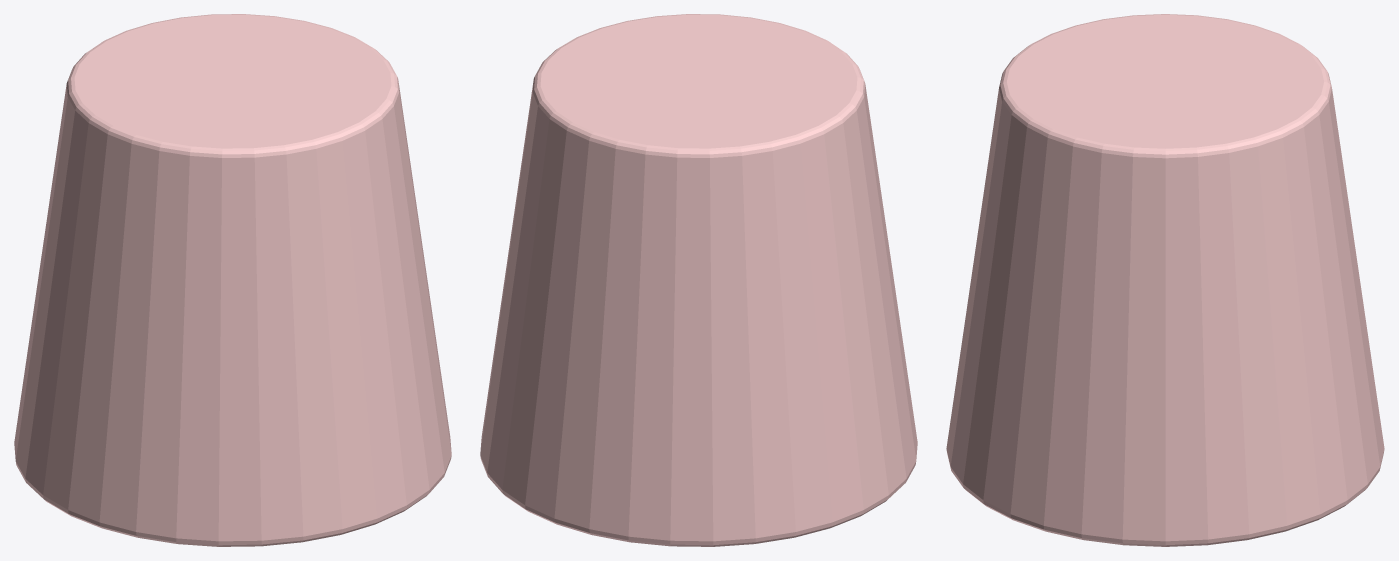
File: pipe.glb
The picture shows the model from 3 angles, left to right: view 1: azimuth 30°, elevation 25°; view 2: azimuth 150°, elevation 25°; view 3: azimuth 270°, elevation 25°; orthographic projection.
Visible parts, largest first — view 1: Cylinder.001; view 2: Cylinder.001; view 3: Cylinder.001.
Boxes of the visible parts, x1,y1,x2,y2 form: Cylinder.001: (14,14,451,546); Cylinder.001: (480,14,917,546); Cylinder.001: (946,14,1384,546).
Size of the model in its own units: 0.1587 by 0.15 by 0.1587.
